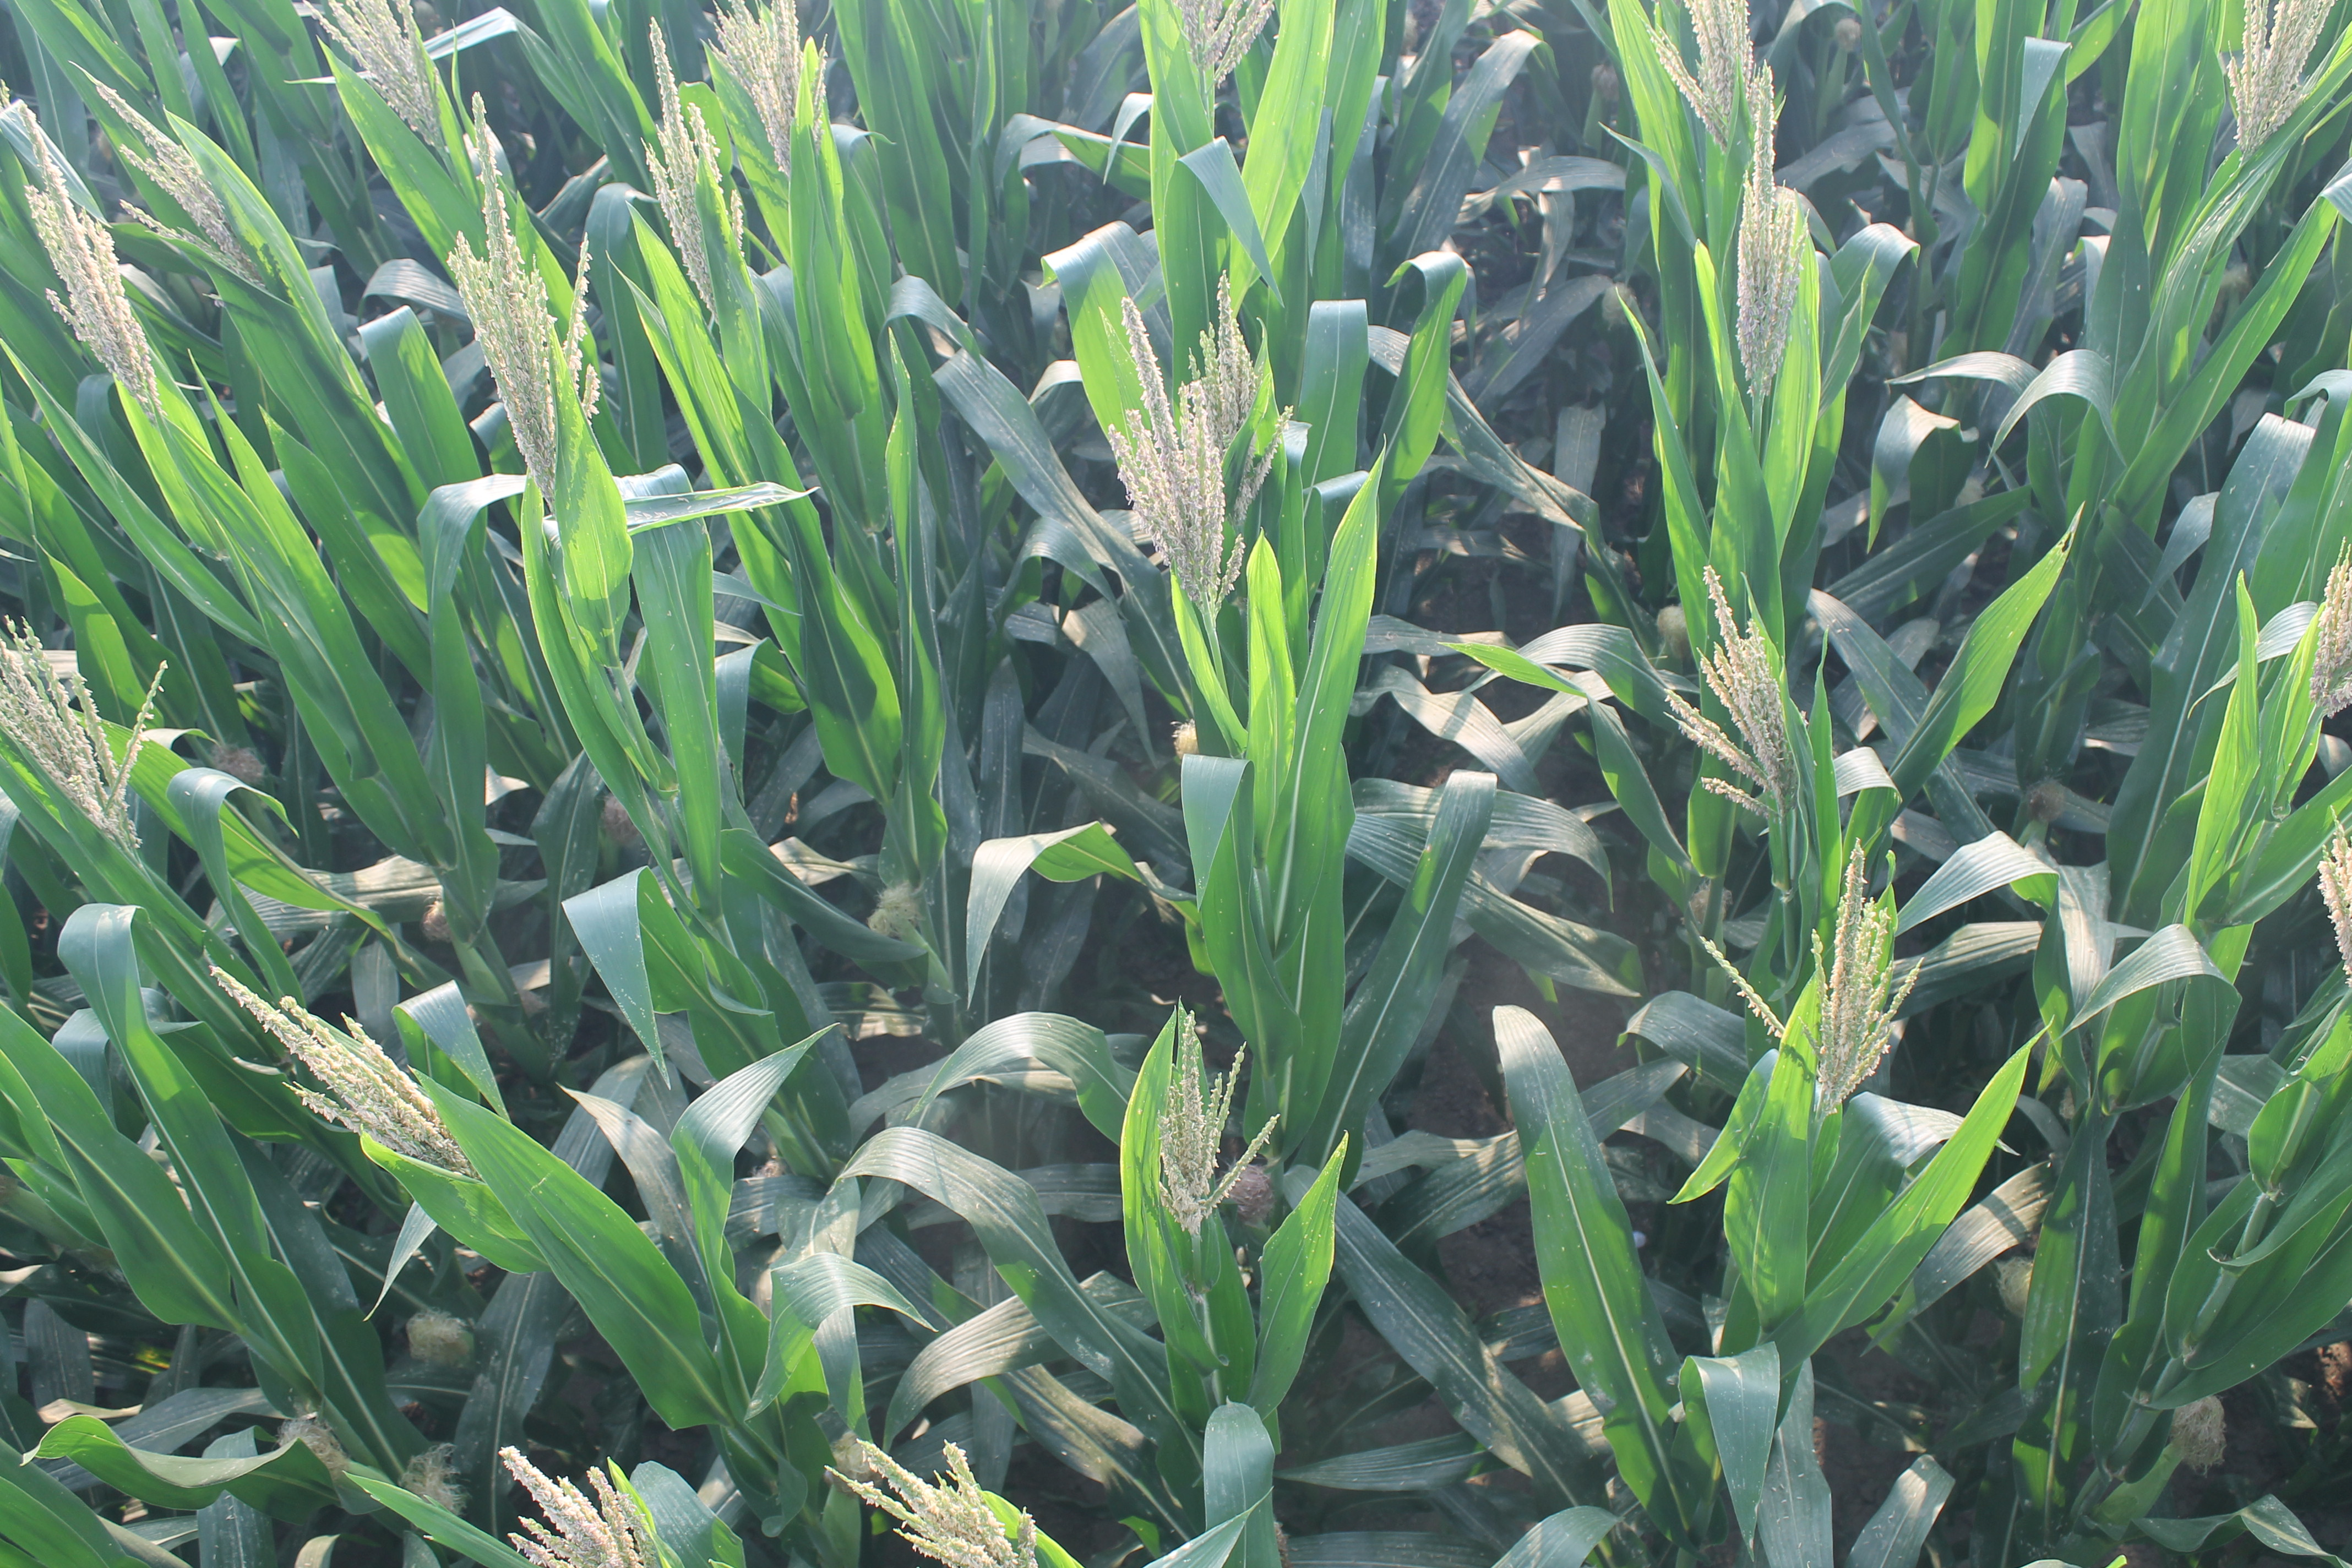Maize: (194, 950, 497, 1209), (1085, 287, 1298, 621), (1704, 856, 1923, 1130), (822, 1407, 1151, 1568), (469, 140, 591, 509), (16, 105, 143, 450), (1669, 565, 1855, 800), (0, 618, 175, 836), (1141, 990, 1295, 1232), (460, 1435, 682, 1568), (1711, 152, 1820, 390), (159, 84, 269, 311), (616, 21, 707, 287), (723, 0, 863, 171), (2217, 0, 2345, 156), (322, 0, 453, 136), (1151, 0, 1298, 117), (1648, 0, 1760, 133), (2292, 558, 2352, 716), (2317, 831, 2352, 987)
